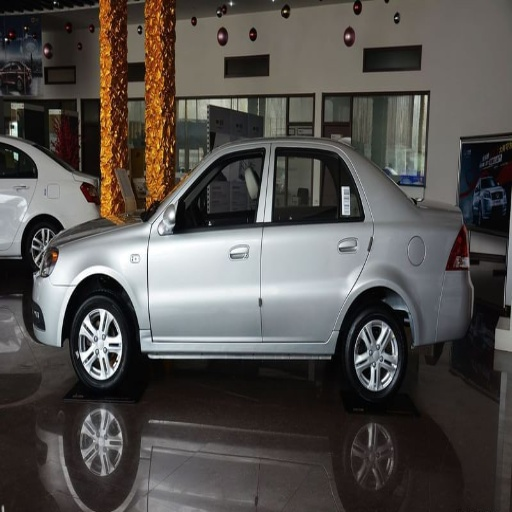back_bumper: (414, 295, 470, 347)
back_left_door: (259, 145, 371, 351), (13, 148, 39, 222)
front_left_door: (148, 146, 270, 350)
